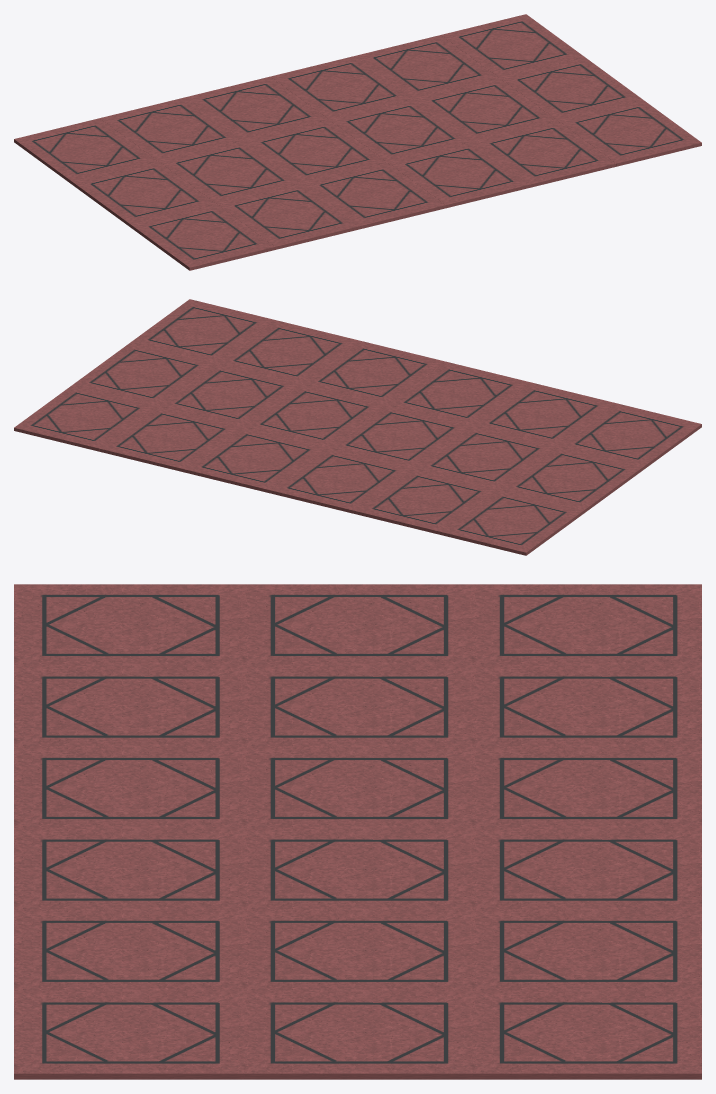
File: Parroquia_Suelo.gltf
3 renders of one model, top to bottom at view 1: azimuth 30°, elevation 25°; view 2: azimuth 150°, elevation 25°; view 3: azimuth 270°, elevation 25°, orthographic. The views are drawn at different scales.
Parts seen in each view (by area): view 1: node-0; view 2: node-0; view 3: node-0.
Part boxes in pixels (x1,y1,x2,y2): node-0: [14, 14, 701, 270]; node-0: [14, 299, 701, 555]; node-0: [14, 584, 701, 1079].
Bounding box in the file's own units: 2022 × 11.94 × 1202.
1 material, 1 textured.
